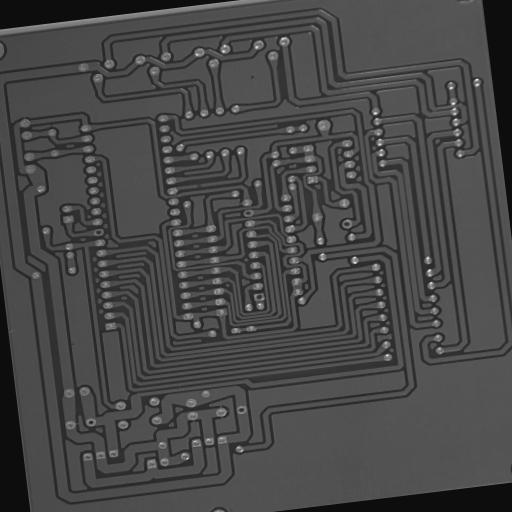missing_hole: (338, 218, 352, 230), (234, 404, 248, 416), (84, 417, 96, 428), (241, 208, 254, 218), (252, 292, 265, 302), (92, 228, 104, 237)
